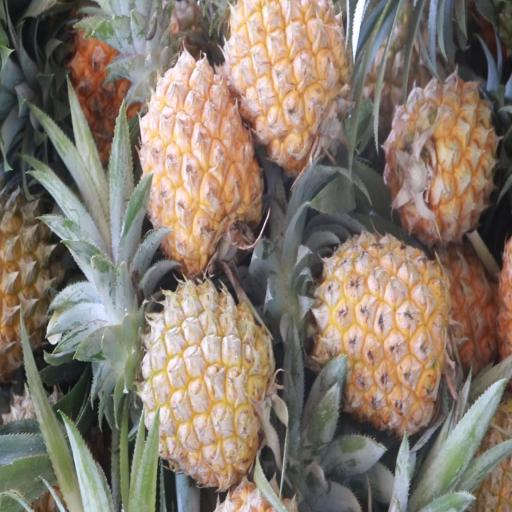------------------------------: (0, 183, 67, 366)
Pineapple - v8 v1: (144, 283, 276, 485), (140, 54, 264, 266), (317, 230, 447, 426), (227, 0, 351, 153), (391, 79, 498, 242)
